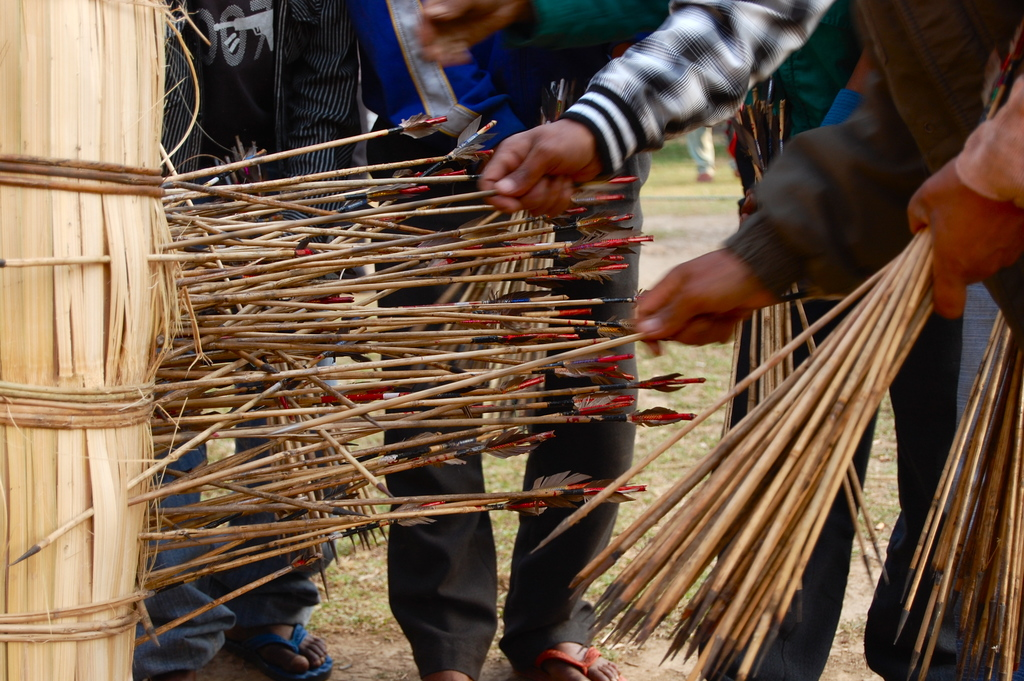Person: (132, 0, 1024, 681)
